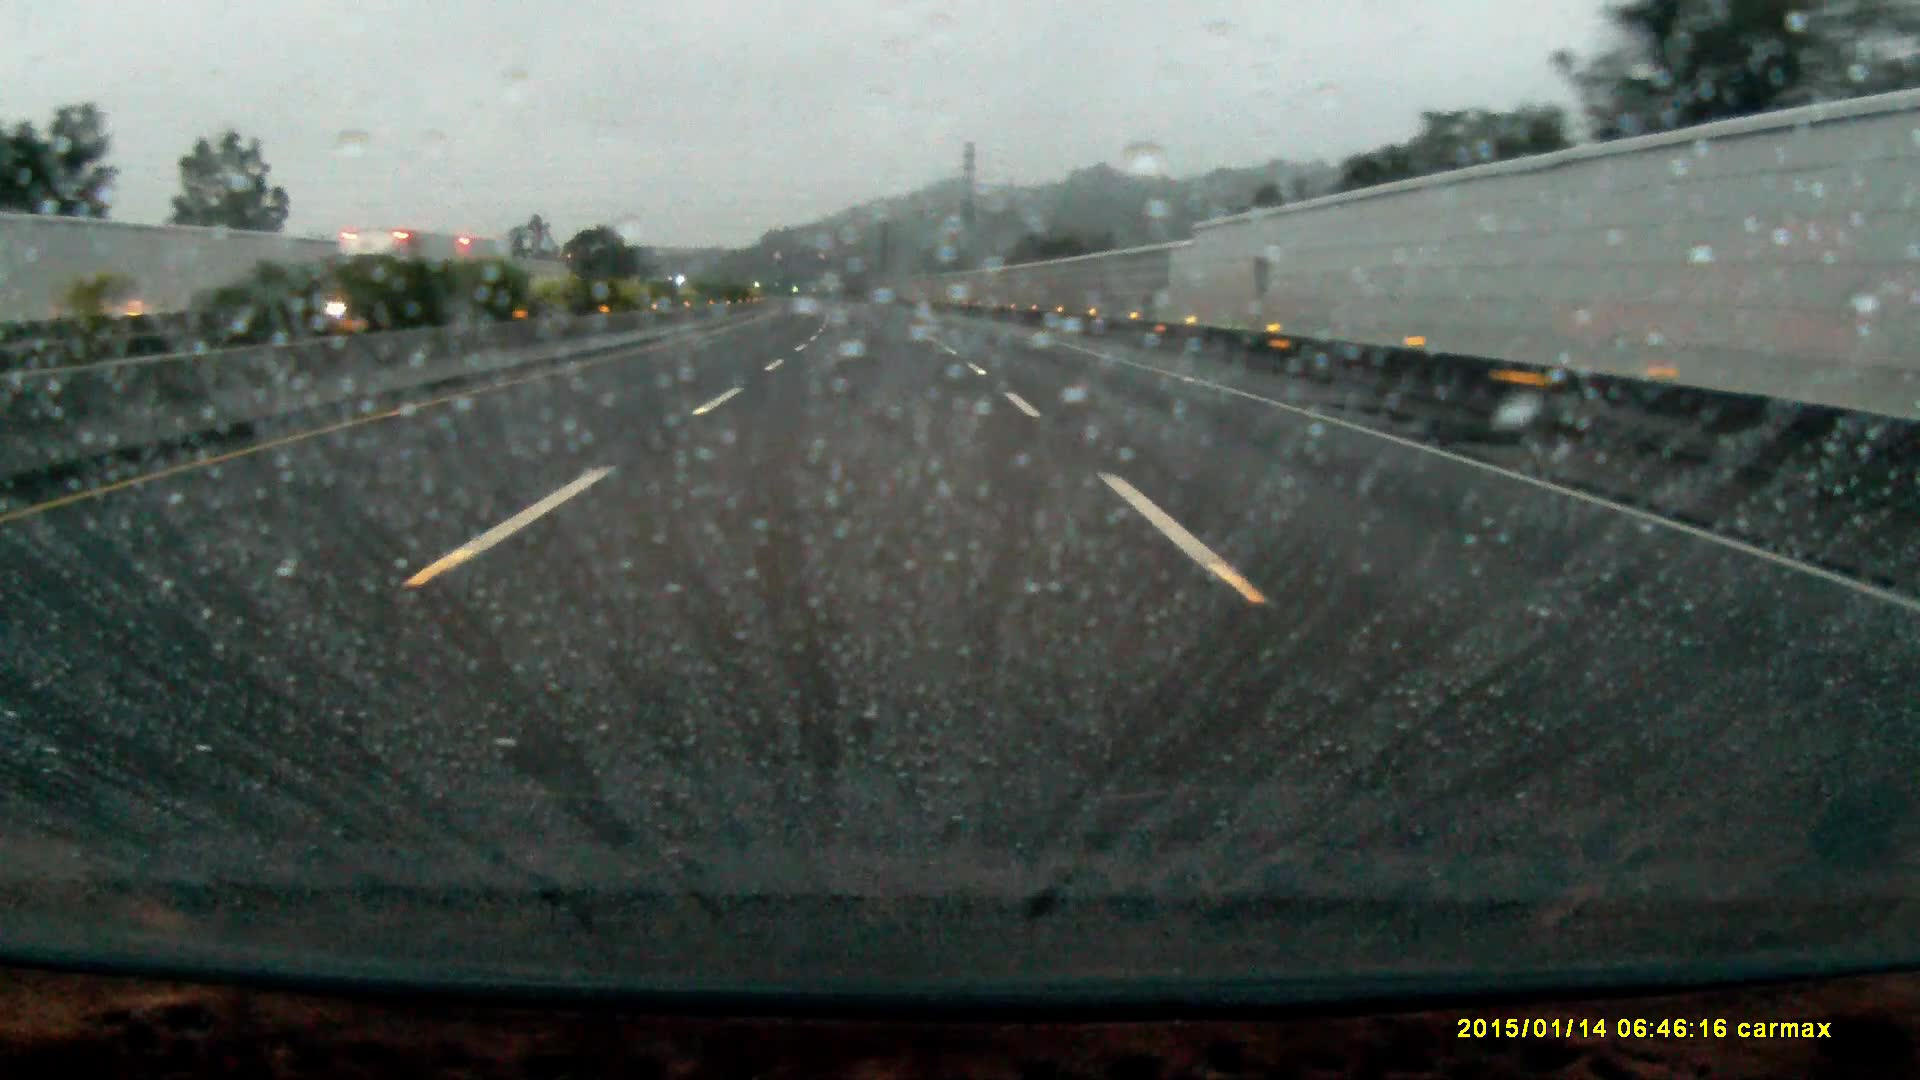vehicle: (320, 229, 502, 324)
